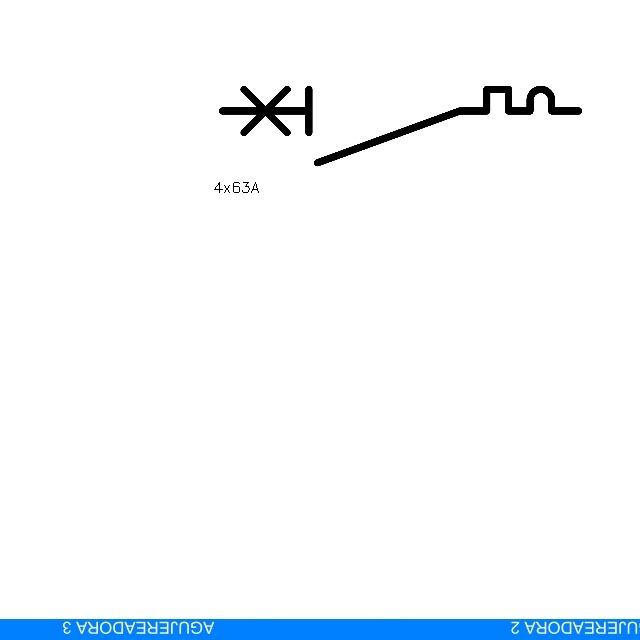interruptor_termomagnetico: (213, 80, 588, 172)
